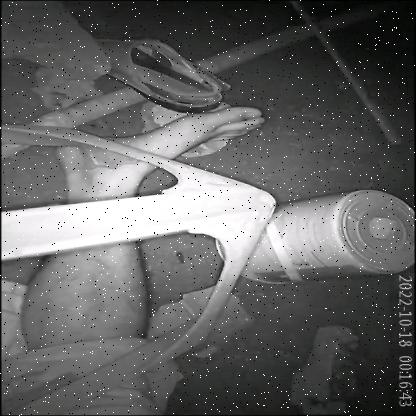leg: (9, 101, 275, 338)
